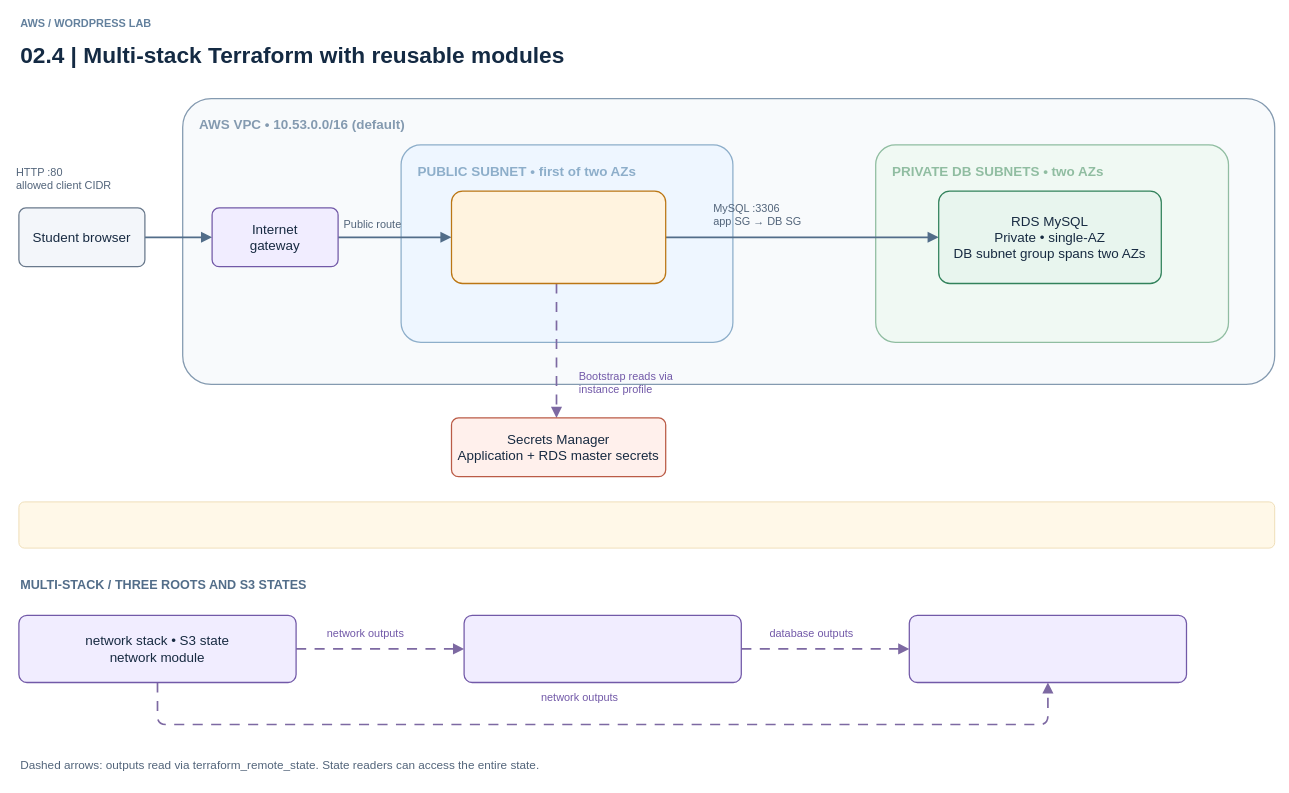
This 1289x793 diagram has some shape labels left out. The shapes that lost their labels are listed below. From the top down, each one's box as (x1, y1, x2, y2) in pixels, then its label:
(450, 190, 666, 284): EC2 • public IP WordPress + web server Uploads on root volume
(18, 501, 1275, 548): RDS stores database records; uploads remain on the EC2 root volume.
(463, 614, 742, 683): database stack • S3 state database module
(908, 614, 1187, 683): wordpress stack • S3 state wordpress module
